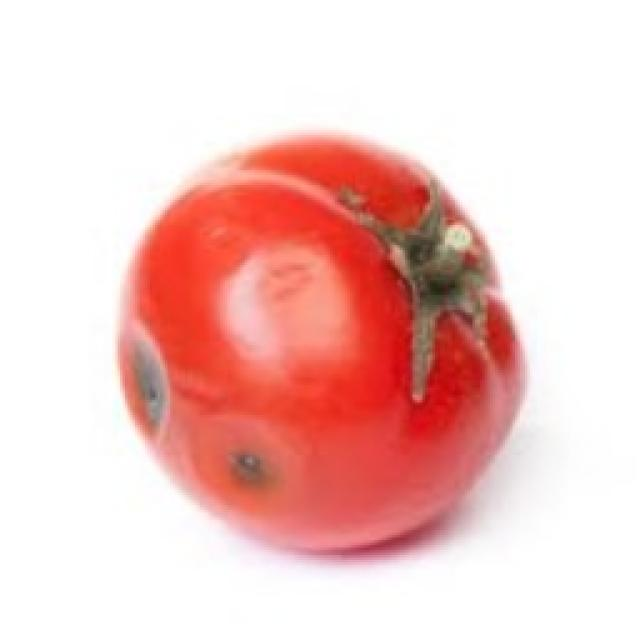Wet Waste: (106, 127, 546, 547)
